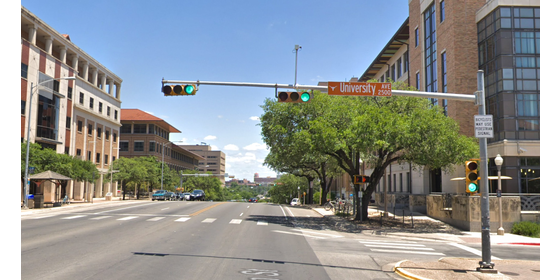bicyclists must use ped signal sign: (473, 111, 495, 140)
